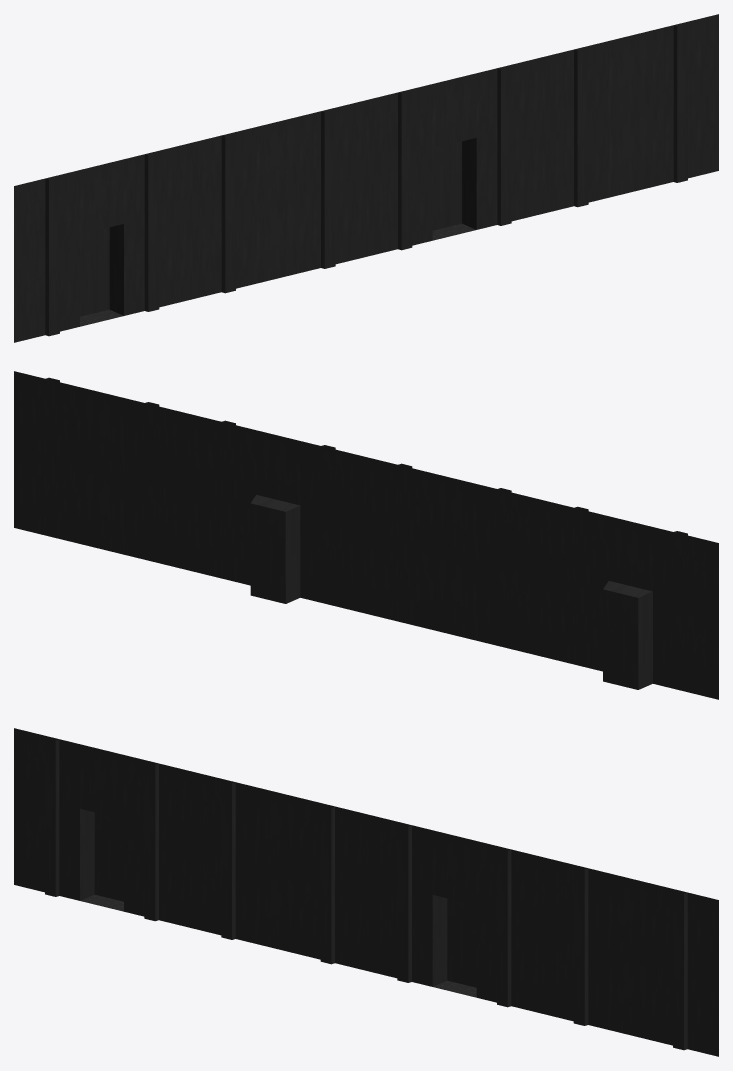
Rendered from SW_ENV_RailTunnelWall_B_03_20m.fbx.
The picture shows the model from 3 angles, top to bottom: view 1: azimuth 30°, elevation 25°; view 2: azimuth 150°, elevation 25°; view 3: azimuth 330°, elevation 25°; orthographic projection.
Visible parts, largest first — view 1: SW_ENV_RailTunnelWall_B_03_20m; view 2: SW_ENV_RailTunnelWall_B_03_20m; view 3: SW_ENV_RailTunnelWall_B_03_20m.
Boxes of the visible parts, <box> form: SW_ENV_RailTunnelWall_B_03_20m: <box>14,14,718,342</box>; SW_ENV_RailTunnelWall_B_03_20m: <box>14,371,718,699</box>; SW_ENV_RailTunnelWall_B_03_20m: <box>14,728,718,1056</box>.
Bounding box in the file's own units: 2000 × 425 × 60.
